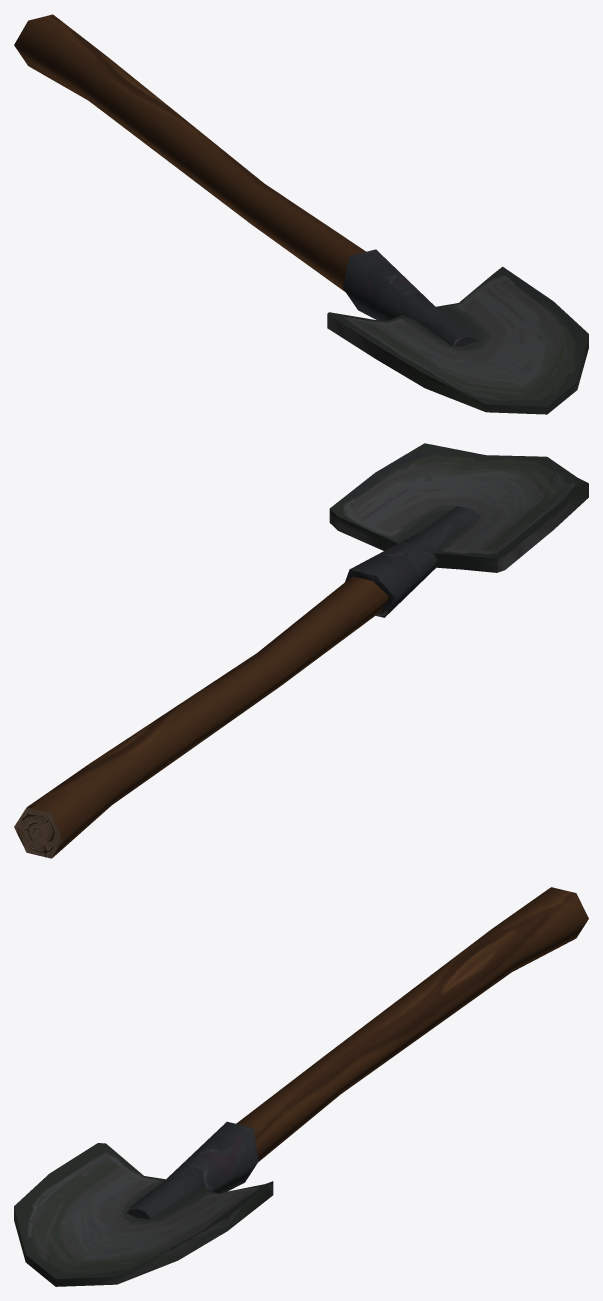
Rendered from SM_PROP_shovel_battle_01.fbx.
3 renders of one model, top to bottom at view 1: azimuth 30°, elevation 25°; view 2: azimuth 150°, elevation 25°; view 3: azimuth 330°, elevation 25°, orthographic.
Visible parts, largest first — view 1: SM_PROP_shovel_battle_01; view 2: SM_PROP_shovel_battle_01; view 3: SM_PROP_shovel_battle_01.
Boxes of the visible parts, x1,y1,x2,y2 form: SM_PROP_shovel_battle_01: [14, 14, 588, 414]; SM_PROP_shovel_battle_01: [14, 443, 588, 858]; SM_PROP_shovel_battle_01: [14, 887, 588, 1286].
Bounding box in the file's own units: 36.56 × 10.24 × 181.
